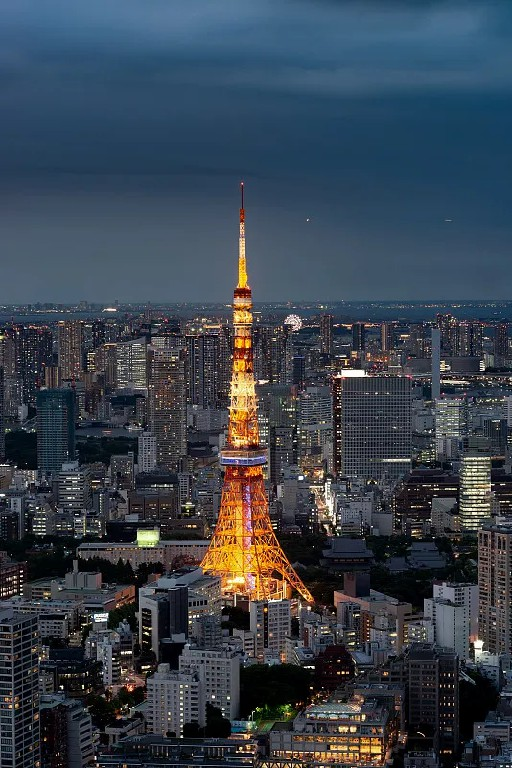Tokyo: (195, 177, 322, 606)
